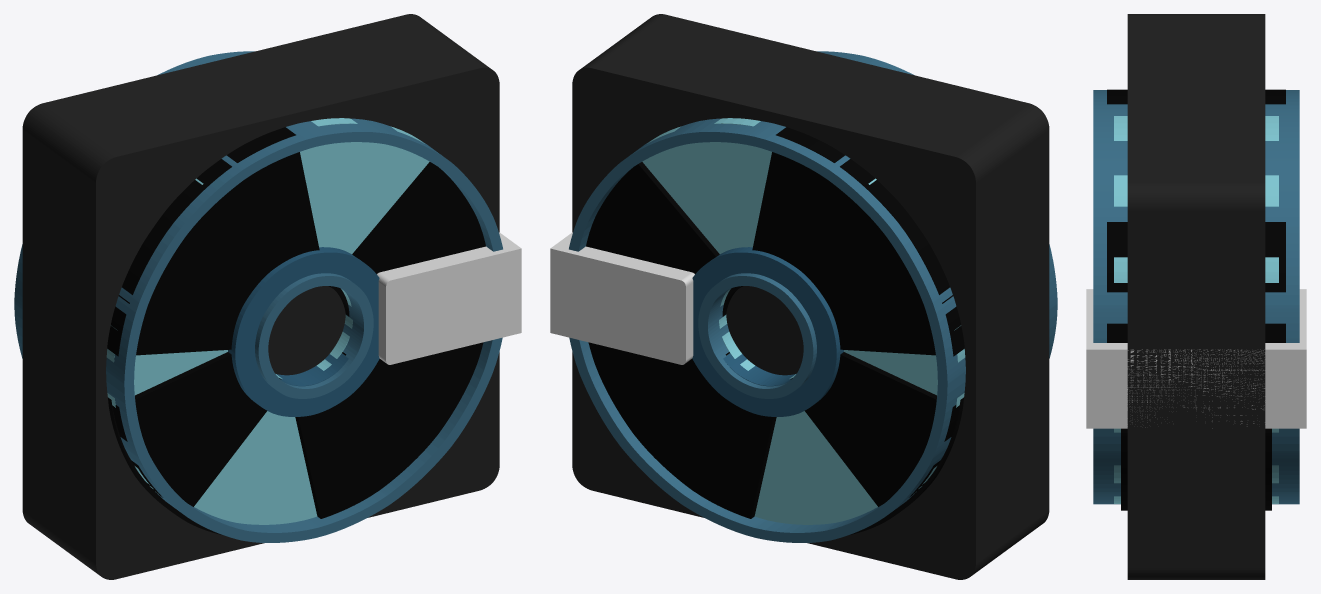
3 views of the same model, side by side, from view 1: azimuth 30°, elevation 25°; view 2: azimuth 150°, elevation 25°; view 3: azimuth 270°, elevation 25° (orthographic). The views are drawn at different scales.
Visible parts, largest first — view 1: U+1F4BD_layer00_obj00, U+1F4BD_layer05_obj00, U+1F4BD_layer02_obj00, U+1F4BD_layer06_obj00, U+1F4BD_layer04_obj00, U+1F4BD_layer03_obj15, U+1F4BD_layer03_obj05, U+1F4BD_layer03_obj03, U+1F4BD_layer03_obj06, U+1F4BD_layer03_obj10, U+1F4BD_layer03_obj11, U+1F4BD_layer03_obj04 (+9 smaller); view 2: U+1F4BD_layer00_obj00, U+1F4BD_layer05_obj00, U+1F4BD_layer02_obj00, U+1F4BD_layer06_obj00, U+1F4BD_layer04_obj00, U+1F4BD_layer03_obj15, U+1F4BD_layer03_obj05, U+1F4BD_layer03_obj10, U+1F4BD_layer03_obj06, U+1F4BD_layer03_obj04, U+1F4BD_layer03_obj03, U+1F4BD_layer03_obj09 (+9 smaller); view 3: U+1F4BD_layer00_obj00, U+1F4BD_layer05_obj00, U+1F4BD_layer06_obj00, U+1F4BD_layer02_obj00, U+1F4BD_layer03_obj06, U+1F4BD_layer01_obj00, U+1F4BD_layer03_obj00, U+1F4BD_layer03_obj05.
Boxes of the visible parts, left/top/right/bottom form: U+1F4BD_layer00_obj00: left=22, top=14, right=499, bottom=579; U+1F4BD_layer05_obj00: left=14, top=51, right=502, bottom=542; U+1F4BD_layer02_obj00: left=106, top=118, right=429, bottom=524; U+1F4BD_layer06_obj00: left=377, top=232, right=521, bottom=364; U+1F4BD_layer04_obj00: left=228, top=247, right=379, bottom=416; U+1F4BD_layer03_obj15: left=112, top=352, right=245, bottom=478; U+1F4BD_layer03_obj05: left=226, top=127, right=319, bottom=267; U+1F4BD_layer03_obj03: left=330, top=372, right=456, bottom=495; U+1F4BD_layer03_obj06: left=352, top=152, right=470, bottom=273; U+1F4BD_layer03_obj10: left=295, top=400, right=394, bottom=518; U+1F4BD_layer03_obj11: left=143, top=159, right=291, bottom=297; U+1F4BD_layer03_obj04: left=155, top=182, right=275, bottom=294; U+1F4BD_layer00_obj00: left=572, top=14, right=1049, bottom=579; U+1F4BD_layer05_obj00: left=569, top=51, right=1057, bottom=542; U+1F4BD_layer02_obj00: left=642, top=118, right=965, bottom=524; U+1F4BD_layer06_obj00: left=550, top=232, right=694, bottom=364; U+1F4BD_layer04_obj00: left=692, top=247, right=843, bottom=416; U+1F4BD_layer03_obj15: left=826, top=352, right=959, bottom=478; U+1F4BD_layer03_obj05: left=752, top=127, right=845, bottom=267; U+1F4BD_layer03_obj10: left=676, top=400, right=776, bottom=518; U+1F4BD_layer03_obj06: left=601, top=152, right=719, bottom=273; U+1F4BD_layer03_obj04: left=796, top=182, right=916, bottom=294; U+1F4BD_layer03_obj03: left=615, top=367, right=723, bottom=495; U+1F4BD_layer03_obj09: left=790, top=378, right=927, bottom=506; U+1F4BD_layer00_obj00: left=1127, top=14, right=1265, bottom=579; U+1F4BD_layer05_obj00: left=1093, top=90, right=1299, bottom=504; U+1F4BD_layer06_obj00: left=1086, top=289, right=1306, bottom=428; U+1F4BD_layer02_obj00: left=1114, top=116, right=1278, bottom=503; U+1F4BD_layer03_obj06: left=1107, top=222, right=1285, bottom=289; U+1F4BD_layer01_obj00: left=1121, top=433, right=1271, bottom=510; U+1F4BD_layer03_obj00: left=1107, top=289, right=1285, bottom=342; U+1F4BD_layer03_obj05: left=1107, top=90, right=1285, bottom=104.
Size of the model in its own units: 0.3175 by 0.3174 by 0.16.
